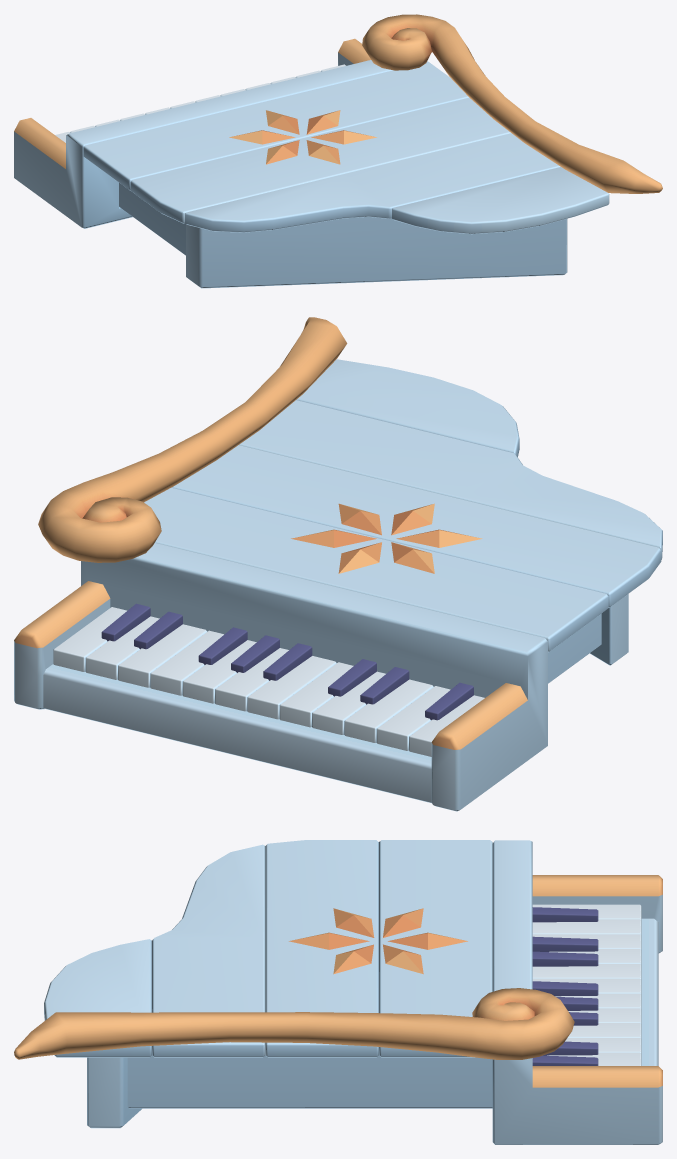
Rendered from CharSkyKid_Prop_APPiano_01.glb.
The picture shows the model from 3 angles, top to bottom: view 1: azimuth 30°, elevation 25°; view 2: azimuth 150°, elevation 25°; view 3: azimuth 270°, elevation 25°; orthographic projection. The views are drawn at different scales.
Parts seen in each view (by area): view 1: CharSkyKid_Prop_APPiano_01; view 2: CharSkyKid_Prop_APPiano_01; view 3: CharSkyKid_Prop_APPiano_01.
Part boxes in pixels (x1,y1,x2,y2): CharSkyKid_Prop_APPiano_01: (14, 14, 662, 288); CharSkyKid_Prop_APPiano_01: (14, 317, 662, 811); CharSkyKid_Prop_APPiano_01: (14, 840, 662, 1144).
Size of the model in its own units: 4.53 by 1.25 by 5.48.
Materials: 1 (1 with a texture image).
